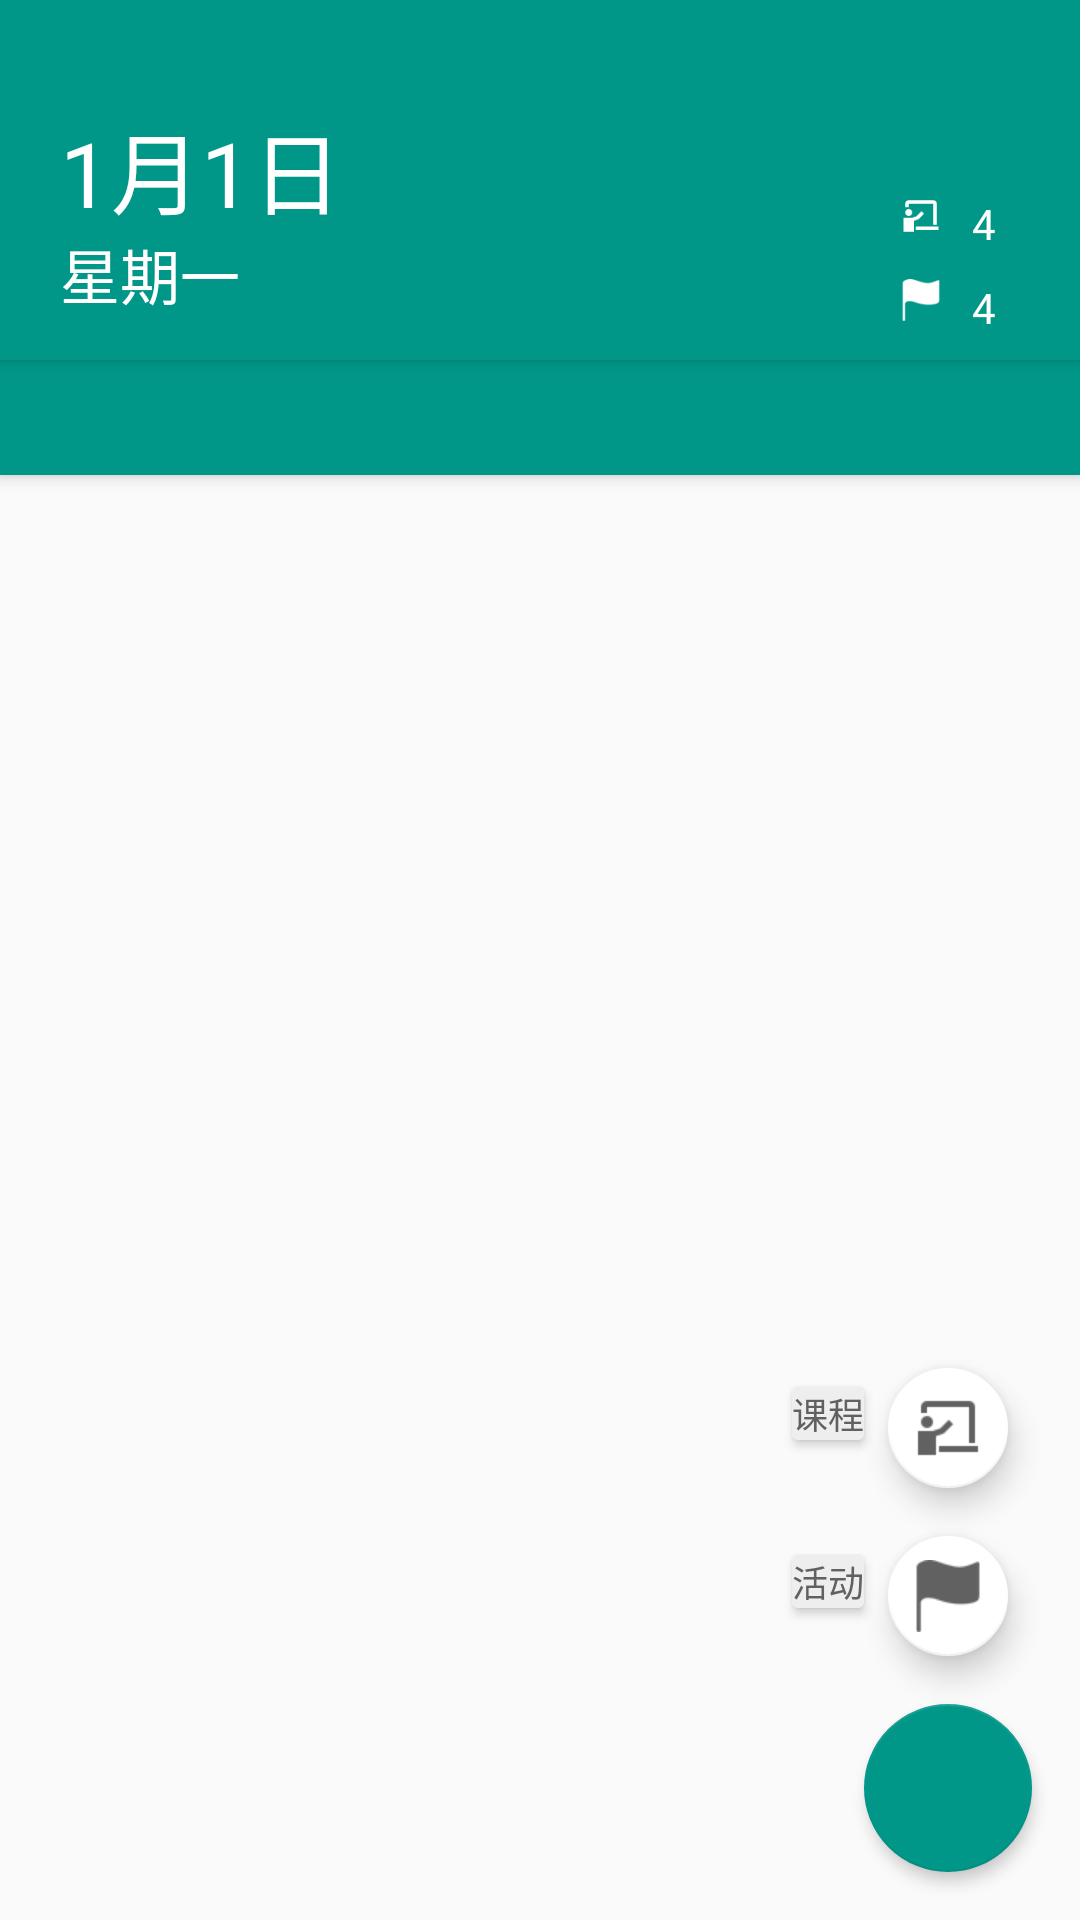

Icon bounding boxes for this 1080 x 1920 phone screenshot, format (x1, y1, x2, y2):
activity: (902, 279, 940, 321), (893, 1560, 980, 1632)
course: (903, 200, 939, 232), (893, 1401, 978, 1455)
